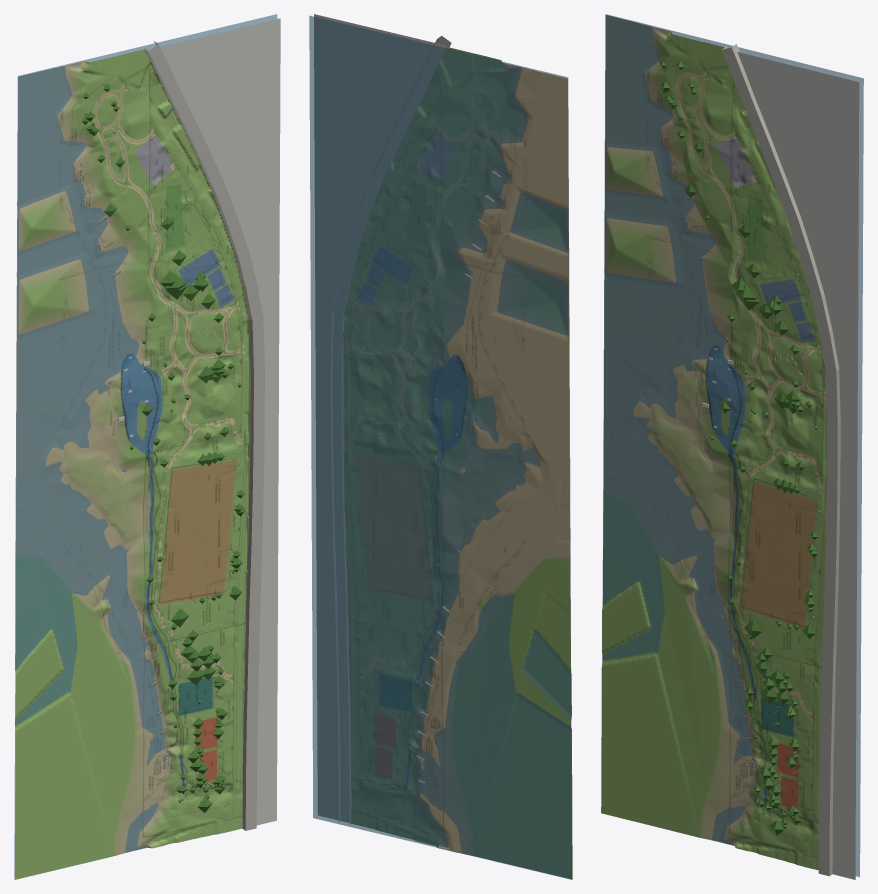
3 views of the same model, side by side, from view 1: azimuth 30°, elevation 25°; view 2: azimuth 150°, elevation 25°; view 3: azimuth 330°, elevation 25° (orthographic).
Visible parts, largest first — view 1: terrain_design, water_EL1.0, terrain_existing, levee_expressway; view 2: terrain_design, water_EL1.0, terrain_existing, levee_expressway; view 3: terrain_design, water_EL1.0, terrain_existing, levee_expressway.
Part boxes in pixels (<box>): terrain_design: <box>14,18,280,879</box>; water_EL1.0: <box>14,14,277,878</box>; terrain_existing: <box>57,49,250,850</box>; levee_expressway: <box>144,41,264,830</box>; terrain_design: <box>314,14,572,879</box>; water_EL1.0: <box>309,16,572,879</box>; terrain_existing: <box>344,46,561,808</box>; levee_expressway: <box>331,36,451,824</box>; terrain_design: <box>601,15,859,879</box>; water_EL1.0: <box>602,14,863,876</box>; terrain_existing: <box>644,34,826,851</box>; levee_expressway: <box>722,44,840,876</box>.
Bounding box in the file's own units: 311 × 914 × 23.8.
